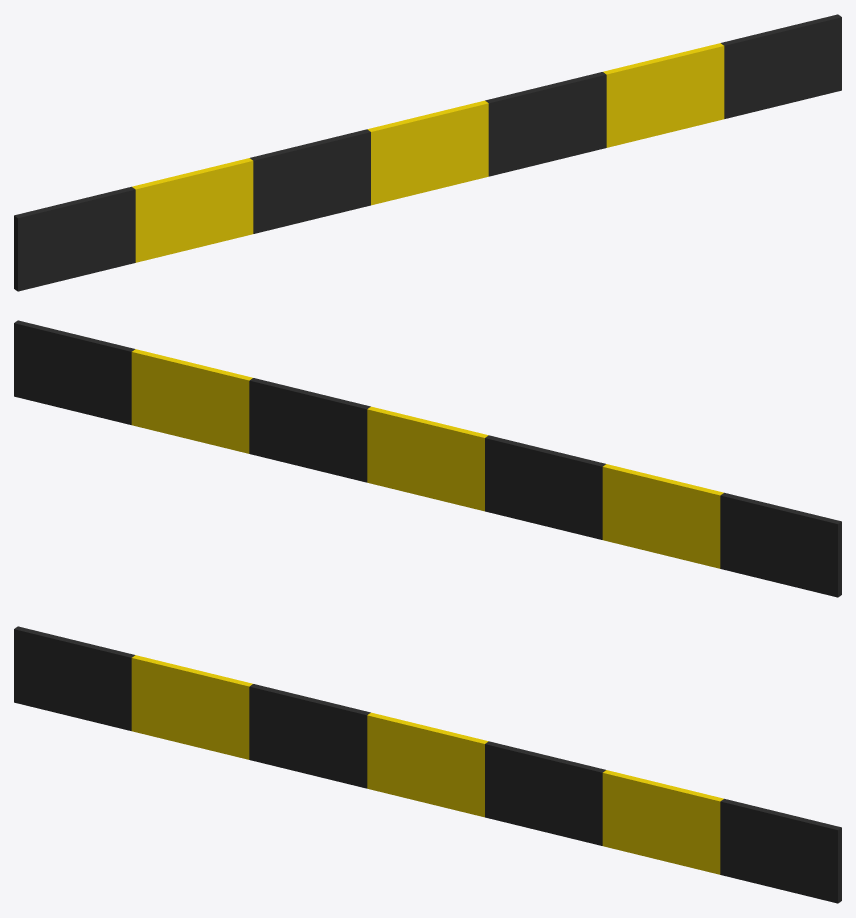
File: Warning_Strip.fbx
3 renders of one model, top to bottom at view 1: azimuth 30°, elevation 25°; view 2: azimuth 150°, elevation 25°; view 3: azimuth 330°, elevation 25°, orthographic.
Visible parts, largest first — view 1: Warning_Strip_1; view 2: Warning_Strip_1; view 3: Warning_Strip_1.
Part boxes in pixels (box(x1,y1,x2,y2)): Warning_Strip_1: box(14, 14, 841, 291); Warning_Strip_1: box(14, 320, 841, 597); Warning_Strip_1: box(14, 626, 841, 903).
Bounding box in the file's own units: 200 × 17.02 × 1.62.
